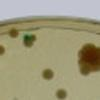Blue_green: (22, 33, 36, 48)
brown: (75, 43, 100, 77), (40, 68, 55, 82), (55, 88, 69, 100), (8, 28, 20, 38), (0, 43, 6, 58)
